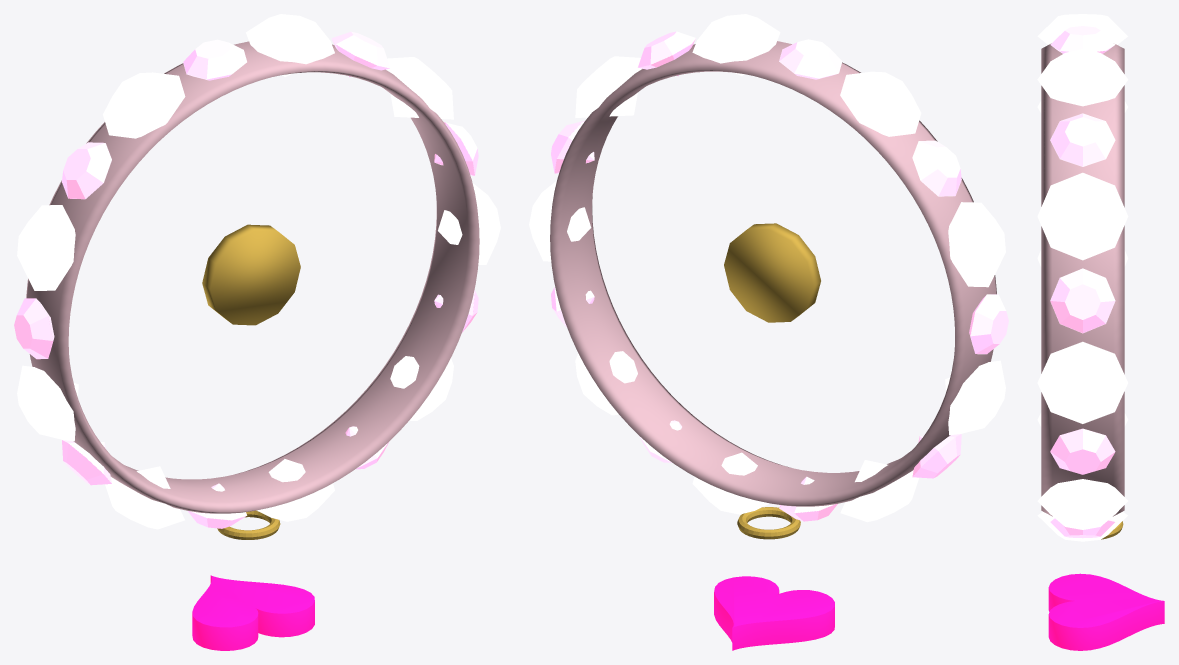
File: coleira-strass.glb
The picture shows the model from 3 angles, left to right: view 1: azimuth 30°, elevation 25°; view 2: azimuth 150°, elevation 25°; view 3: azimuth 270°, elevation 25°; orthographic projection. The views are drawn at different scales.
Visible parts, largest first — view 1: coleira_strass; view 2: coleira_strass; view 3: coleira_strass.
Part boxes in pixels (x1,y1,x2,y2): coleira_strass: [14, 14, 500, 650]; coleira_strass: [529, 14, 1008, 650]; coleira_strass: [1037, 14, 1164, 650].
Bounding box in the file's own units: 2.35 × 2.9 × 0.5716.
